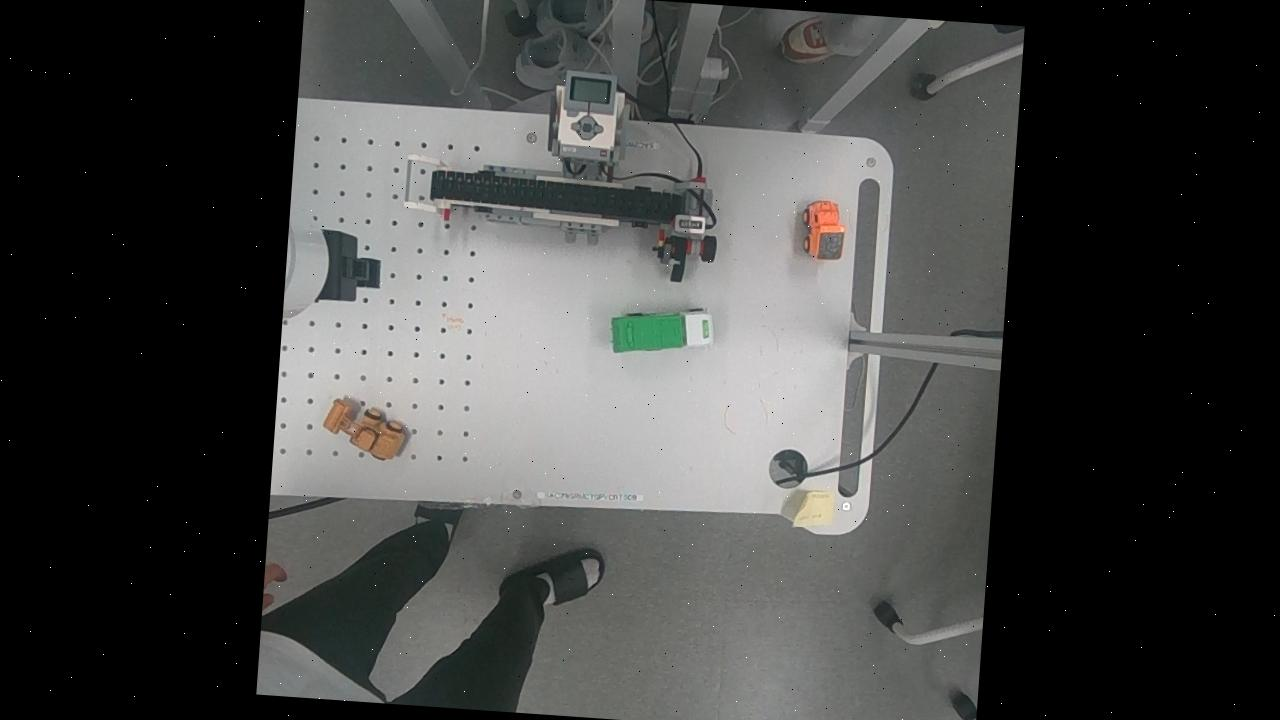green_car: (600, 292, 718, 366)
orange_car: (798, 191, 850, 265)
yellow_car: (314, 382, 422, 472)
